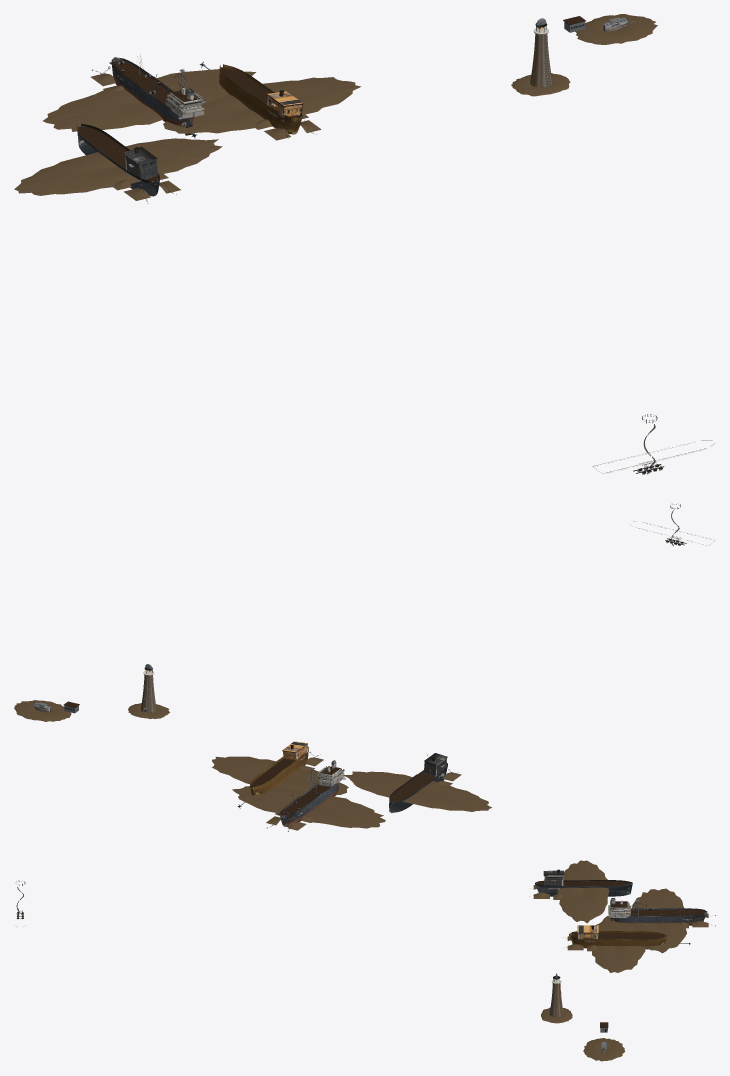
Rendered from ships.glb.
The picture shows the model from 3 angles, top to bottom: view 1: azimuth 30°, elevation 25°; view 2: azimuth 150°, elevation 25°; view 3: azimuth 270°, elevation 25°; orthographic projection. The views are drawn at different scales.
Parts seen in each view (by area): view 1: lake-bed geometry, ship-marigold:hull, ship-patience:hull, lighthouse geometry, ship-good-hope:weather-deck, ship-good-hope:hull, ship-patience:upperworks, ship-good-hope:upperworks geometry; view 2: lake-bed geometry, ship-patience:hull, ship-marigold:hull, lighthouse geometry, ship-good-hope:weather-deck; view 3: lake-bed geometry, ship-marigold:hull, ship-patience:hull, ship-good-hope:hull, ship-marigold:weather-deck, lighthouse geometry, ship-patience:upperworks.
Boxes of the visible parts, left/top/right/bottom form: lake-bed geometry: left=14, top=14, right=657, bottom=195; ship-marigold:hull: left=219, top=64, right=302, bottom=134; ship-patience:hull: left=111, top=57, right=193, bottom=126; lighthouse geometry: left=530, top=18, right=552, bottom=87; ship-good-hope:weather-deck: left=78, top=127, right=159, bottom=180; ship-good-hope:hull: left=77, top=123, right=159, bottom=196; ship-patience:upperworks: left=165, top=89, right=205, bottom=119; ship-good-hope:upperworks geometry: left=124, top=146, right=157, bottom=180; lake-bed geometry: left=14, top=700, right=491, bottom=828; ship-patience:hull: left=279, top=783, right=338, bottom=826; ship-marigold:hull: left=250, top=747, right=308, bottom=795; lighthouse geometry: left=140, top=664, right=156, bottom=713; ship-good-hope:weather-deck: left=389, top=765, right=447, bottom=802; lake-bed geometry: left=541, top=860, right=686, bottom=1061; ship-marigold:hull: left=569, top=931, right=666, bottom=949; ship-patience:hull: left=610, top=908, right=707, bottom=925; ship-good-hope:hull: left=535, top=880, right=632, bottom=896; ship-marigold:weather-deck: left=571, top=932, right=664, bottom=939; lighthouse geometry: left=549, top=973, right=563, bottom=1017; ship-patience:upperworks: left=608, top=900, right=630, bottom=917.
Bounding box in the file's own units: 351 × 37.6 × 517.
Materials: 35 (28 with a texture image).
